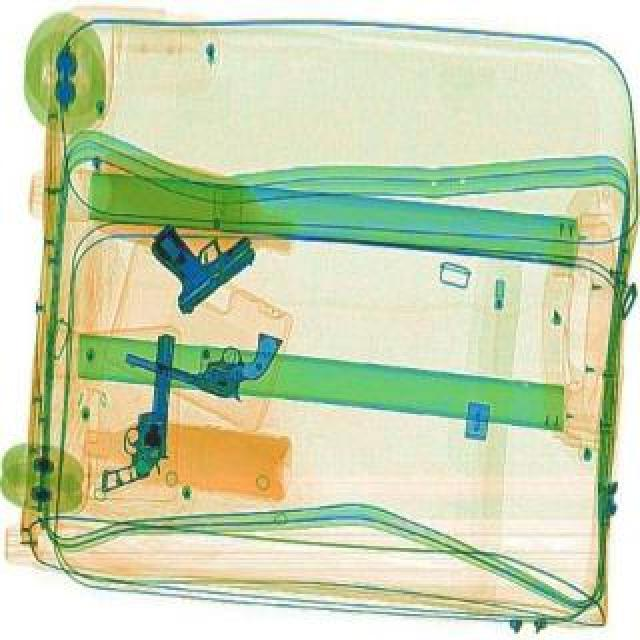gun: (128, 186, 272, 316), (122, 296, 286, 404), (102, 326, 176, 494)
